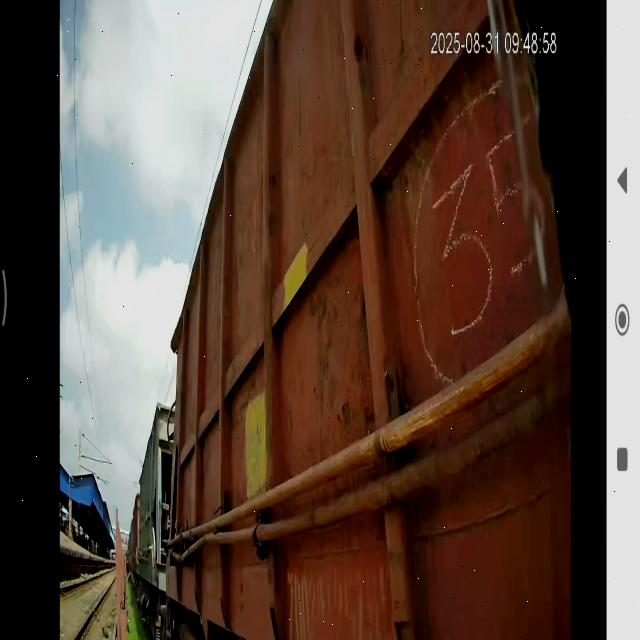coach: (175, 0, 595, 640)
